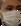with_mask: (1, 1, 21, 26)
